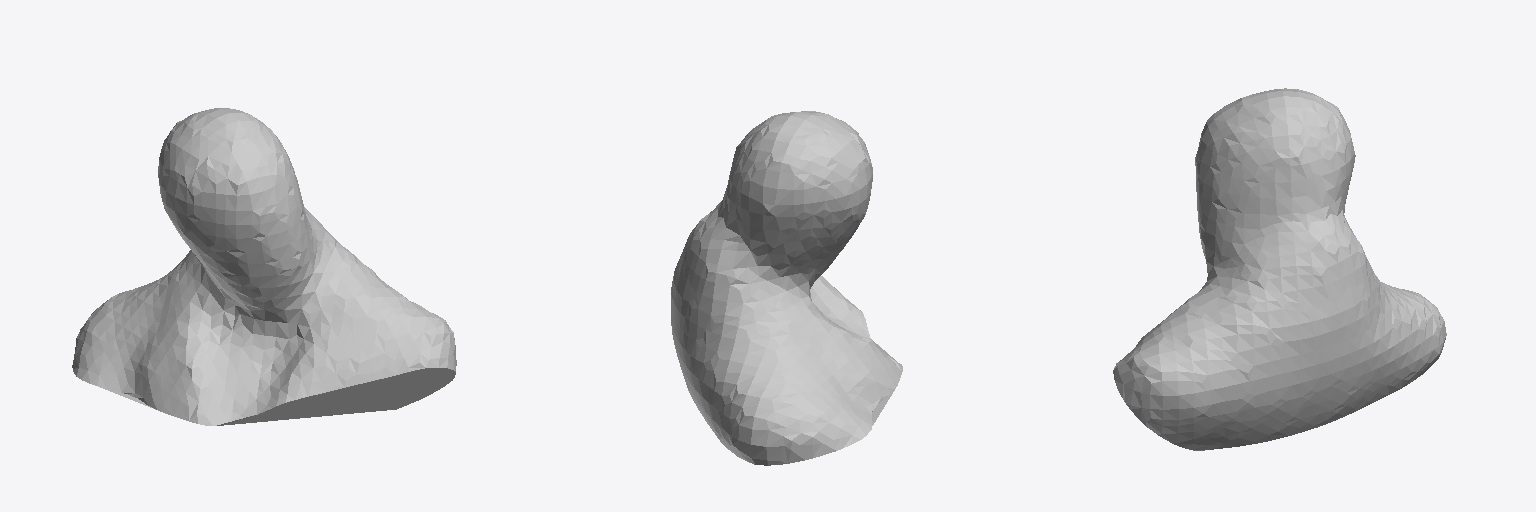
The model's file is low_cell_035.obj.
3 views of the same model, side by side, from view 1: azimuth 30°, elevation 25°; view 2: azimuth 150°, elevation 25°; view 3: azimuth 270°, elevation 25° (orthographic).
Parts seen in each view (by area): view 1: low_cell.035_low_cell.034; view 2: low_cell.035_low_cell.034; view 3: low_cell.035_low_cell.034.
Boxes of the visible parts, <box> form: low_cell.035_low_cell.034: <box>72,108,456,425</box>; low_cell.035_low_cell.034: <box>671,111,902,465</box>; low_cell.035_low_cell.034: <box>1113,88,1446,450</box>.
Bounding box in the file's own units: 0.3968 × 0.4098 × 0.4193.